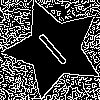I: (29, 23, 70, 68)
